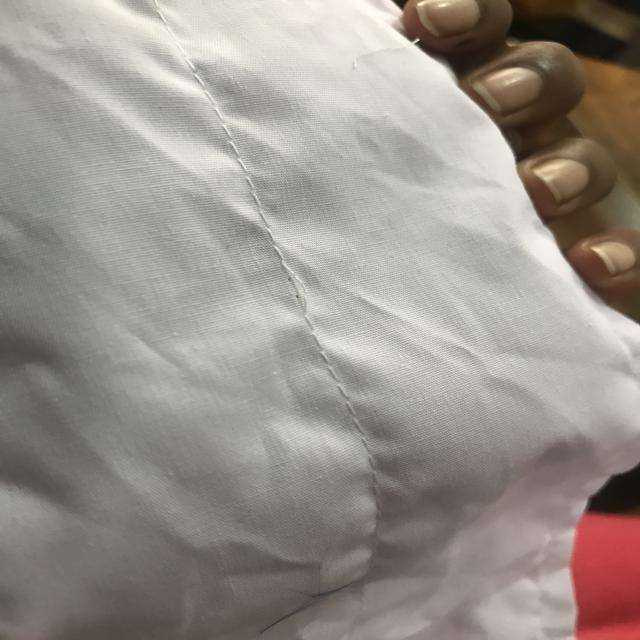good: (319, 364, 392, 477), (202, 118, 278, 223)
skip: (252, 249, 340, 334)
